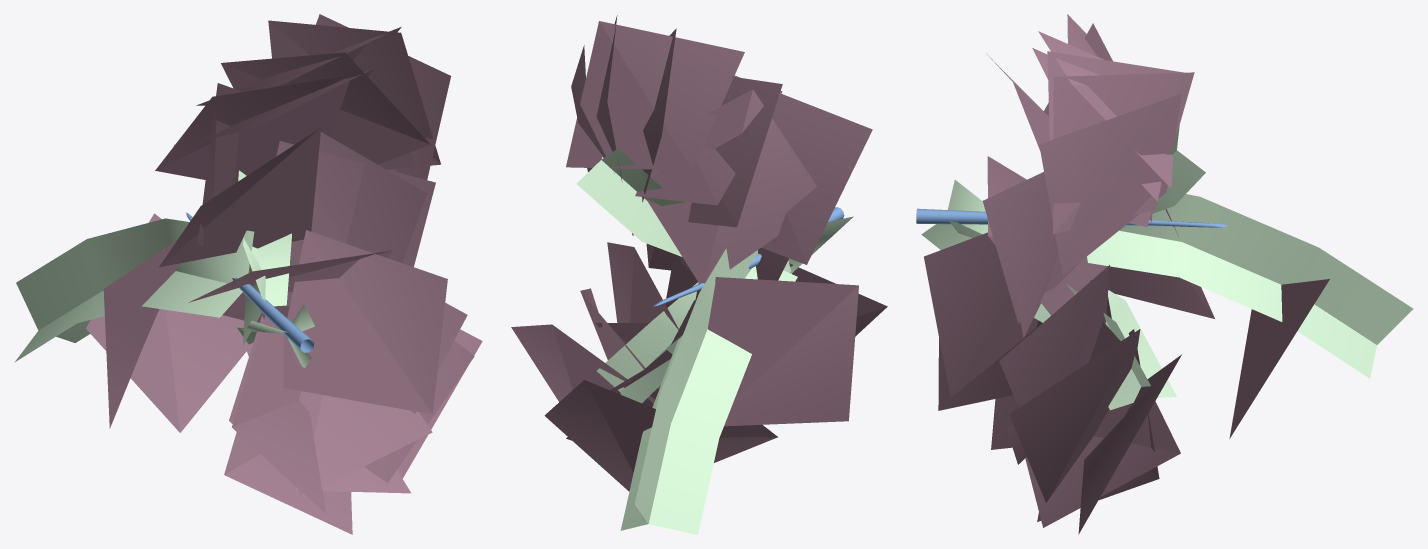
File: Tree_0018.FBX
The picture shows the model from 3 angles, left to right: view 1: azimuth 30°, elevation 25°; view 2: azimuth 150°, elevation 25°; view 3: azimuth 270°, elevation 25°; orthographic projection. The views are drawn at different scales.
Visible parts, largest first — view 1: Tree_0018_LOD0; view 2: Tree_0018_LOD0; view 3: Tree_0018_LOD0.
Part boxes in pixels (left/top/right/bottom): Tree_0018_LOD0: left=14, top=14, right=482, bottom=534; Tree_0018_LOD0: left=511, top=15, right=887, bottom=534; Tree_0018_LOD0: left=916, top=14, right=1413, bottom=534.
Size of the model in its own units: 105 by 124 by 130.
